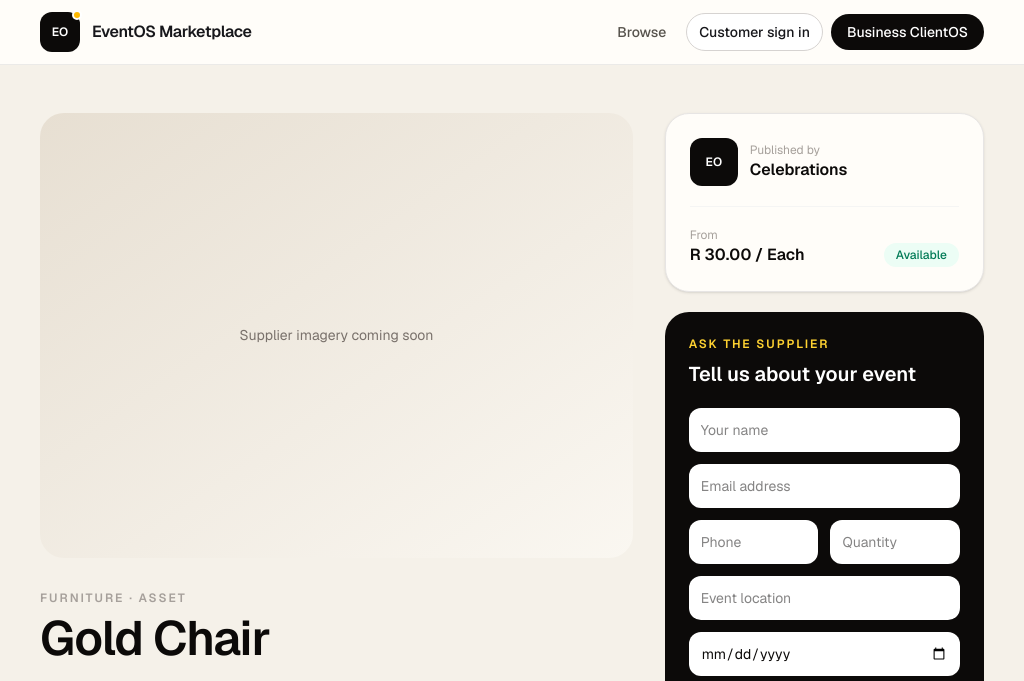
Test case: MarketplaceListingPage › shows public detail and sends an enquiry
Expected: the heading "Gold Chair" is shown, [40,607,270,669]
Type "Sam" into the field with placeholder "Your name" at [824, 430], box [689,408,960,452]
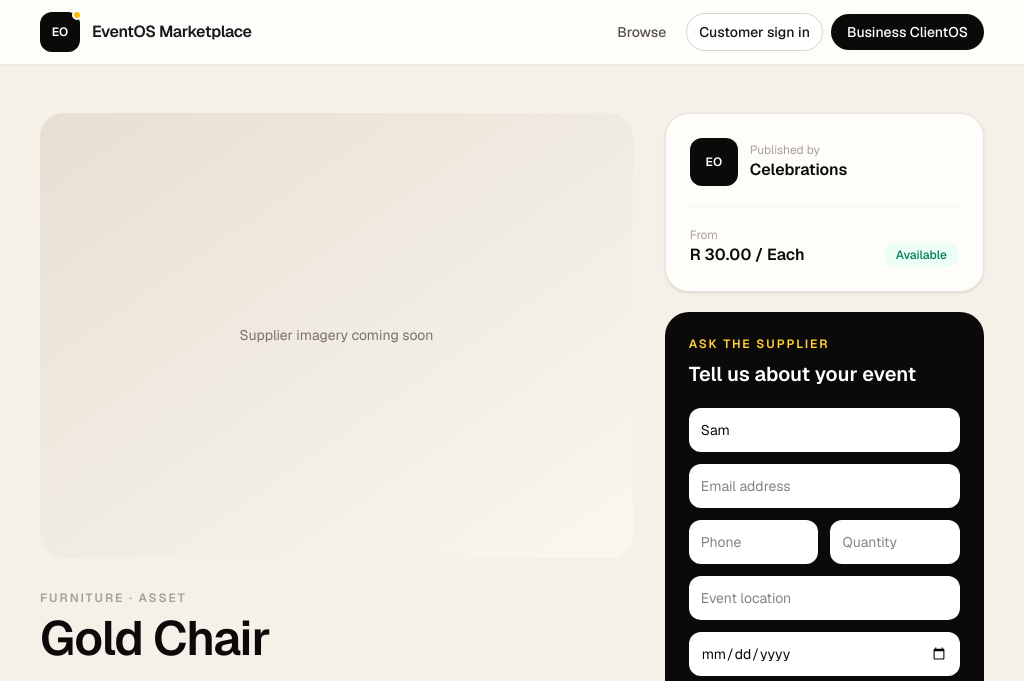
Type "sam@example.com" into the field with placeholder "Email address" at [824, 486], box [689,464,960,508]
(page scrolled)
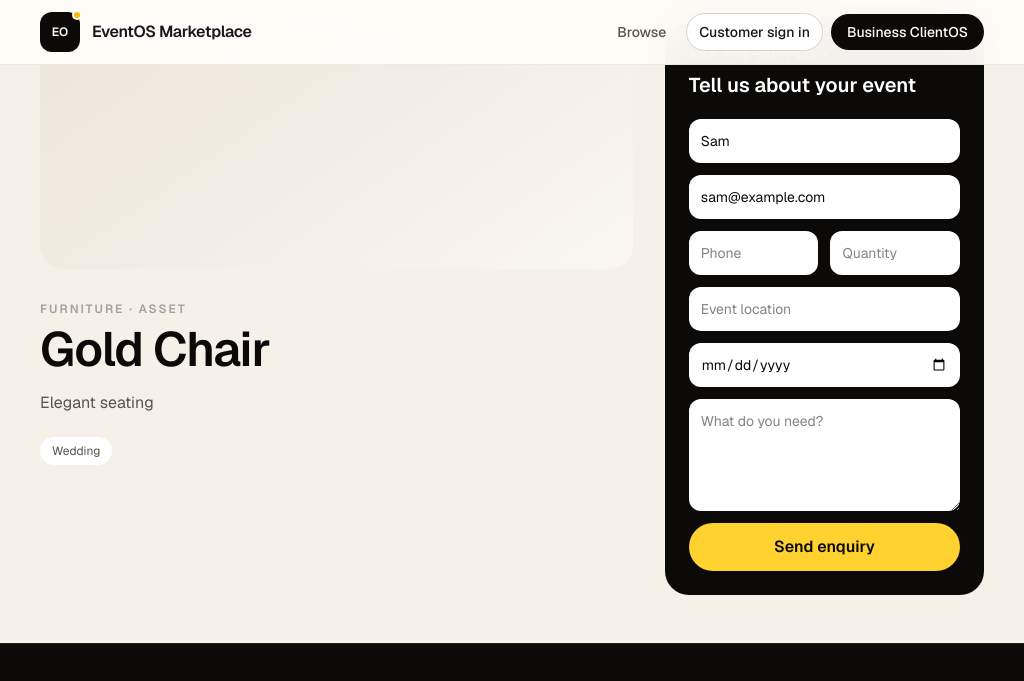
Type "100 chairs" into the text box with placeholder "What do you need?" at [824, 455], box [689,399,960,511]
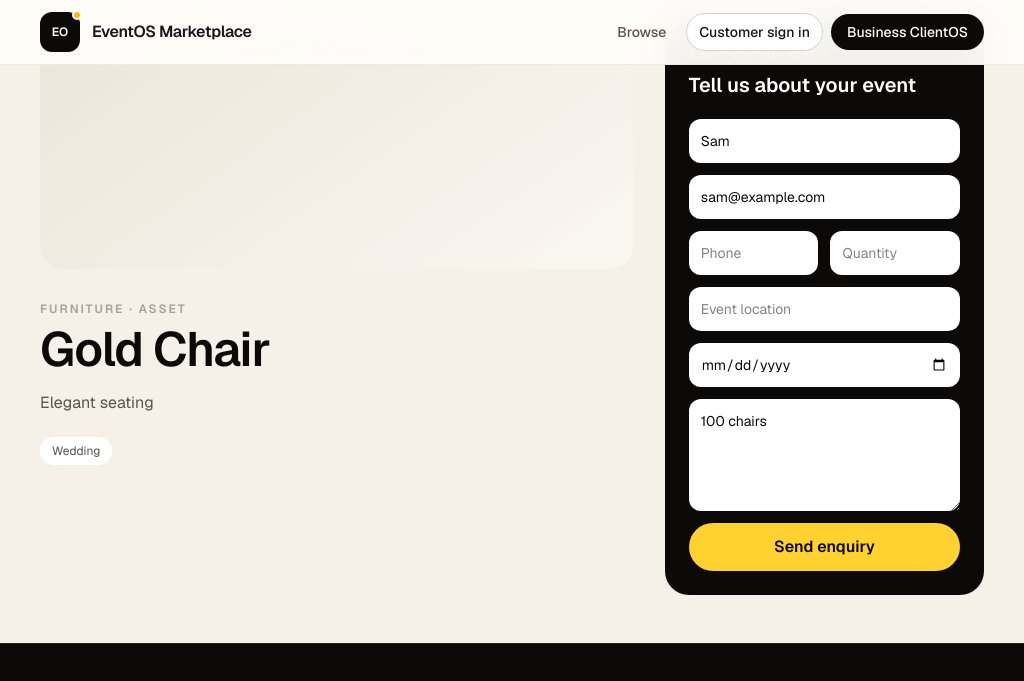
Click the button "Send enquiry" at [824, 547], box [689,523,960,571]
(page scrolled)
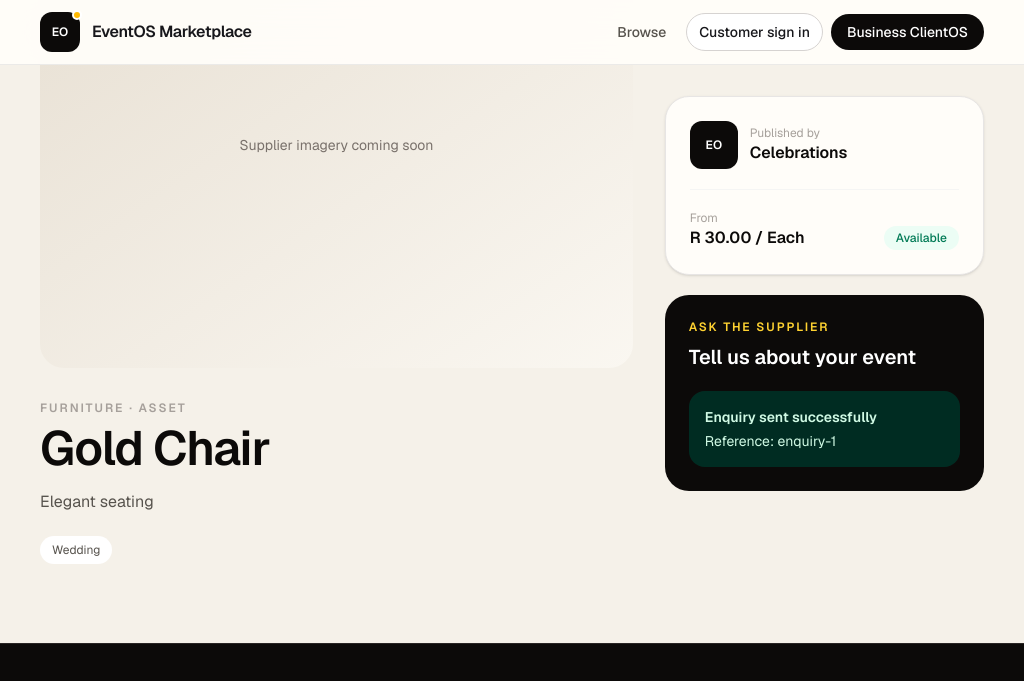
Expected: the text "Enquiry sent successfully" is shown, [705,408,877,426]
